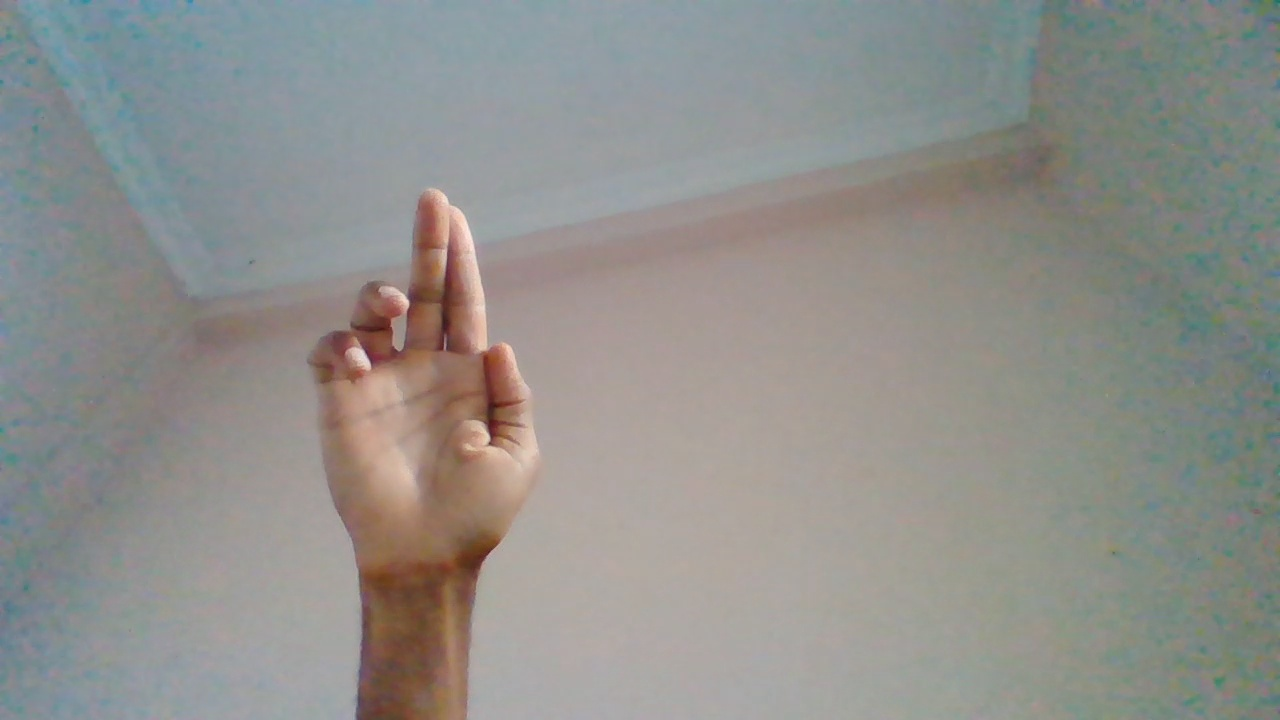gne: (305, 185, 549, 674)
